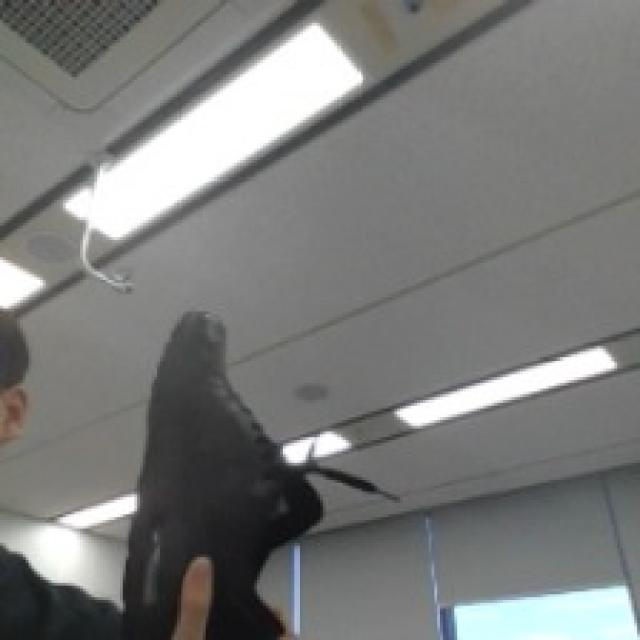shoe: (79, 277, 319, 629)
